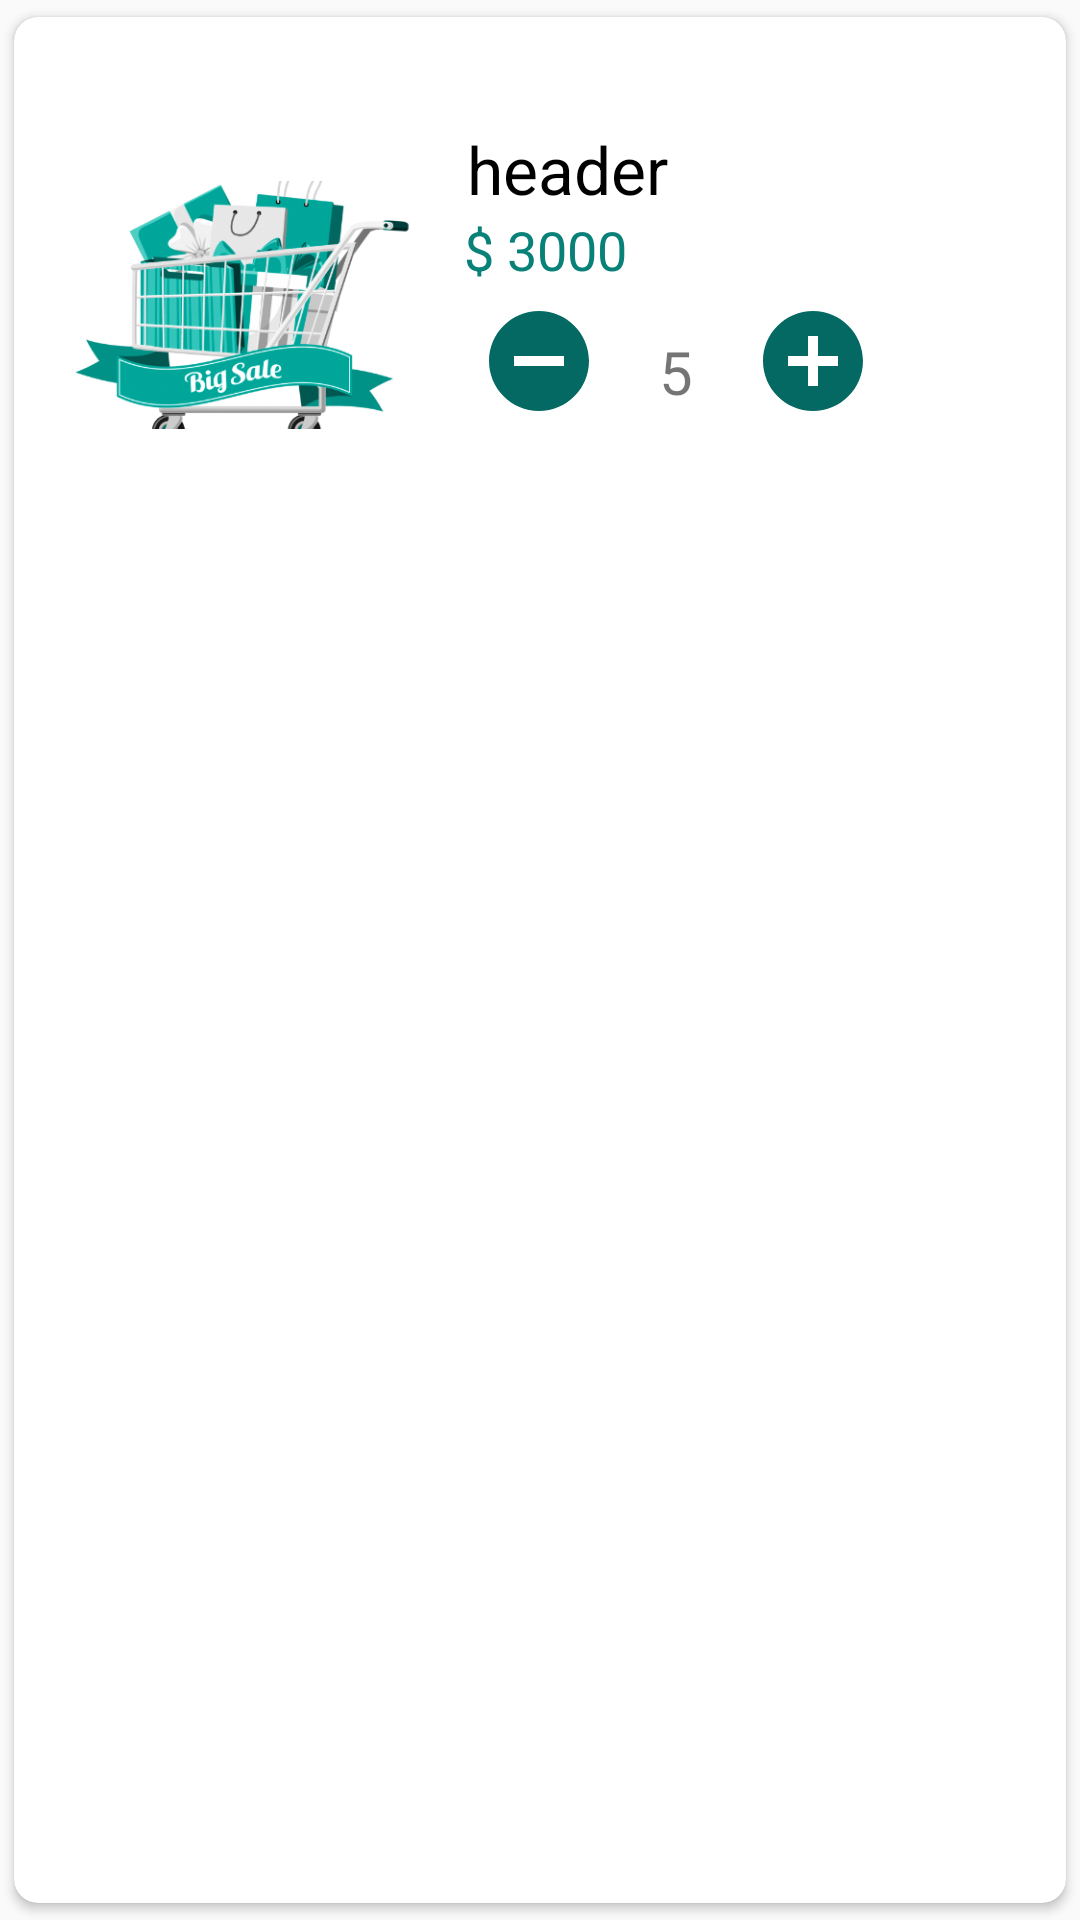

Locate icon controls on the screen. Image size 1080*1920, boxes as (x1, y1, x2, y2).
add circle: (763, 311, 863, 411)
cart: (75, 181, 409, 429)
remove circle: (489, 311, 589, 411)
